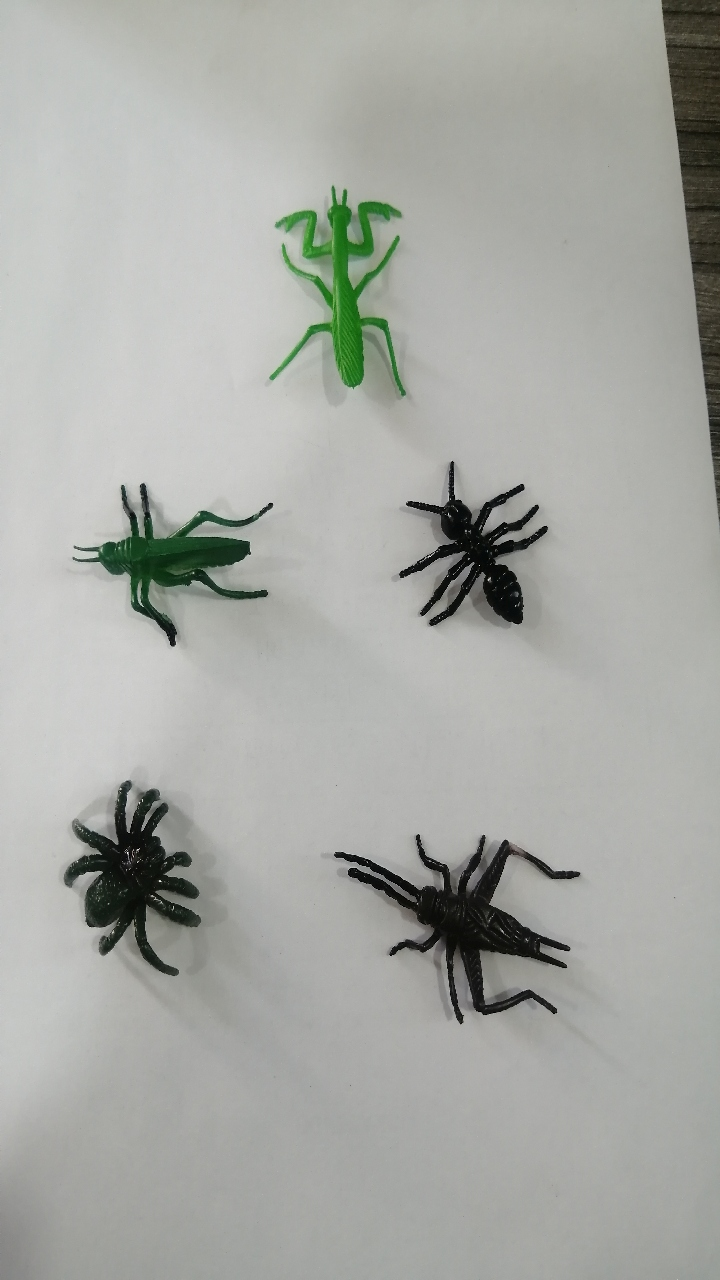intruso: (334, 780, 612, 1068), (48, 420, 308, 671), (220, 152, 431, 423), (352, 426, 569, 674), (28, 742, 209, 1003)
